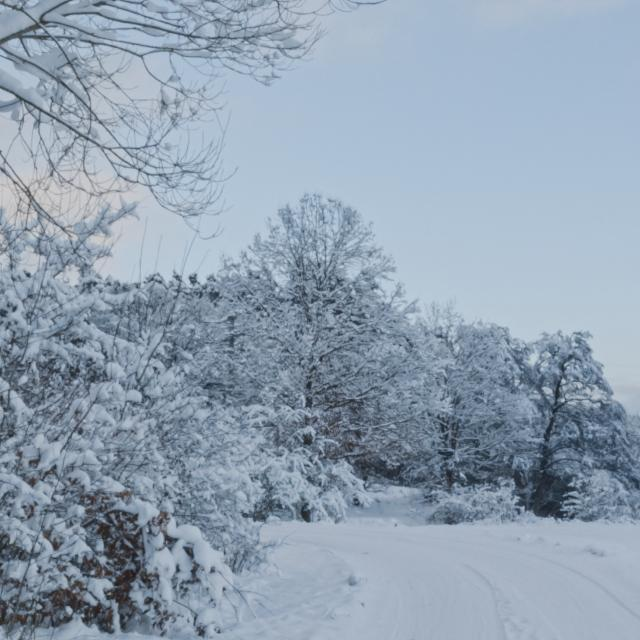Airaplan: (437, 449, 456, 458)
